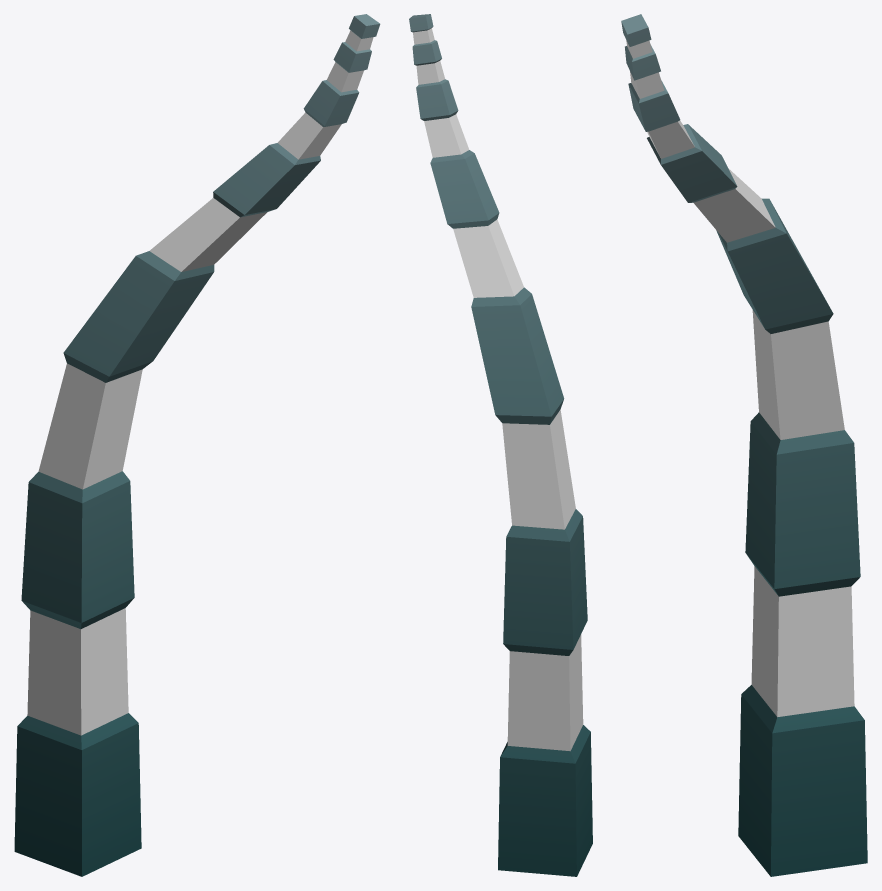
The picture shows the model from 3 angles, left to right: view 1: azimuth 30°, elevation 25°; view 2: azimuth 150°, elevation 25°; view 3: azimuth 270°, elevation 25°; orthographic projection. The views are drawn at different scales.
Parts seen in each view (by area): view 1: Cube.144; view 2: Cube.144; view 3: Cube.144.
Boxes of the visible parts, x1,y1,x2,y2 form: Cube.144: (14,14,380,876); Cube.144: (409,14,592,876); Cube.144: (621,14,867,876).
Size of the model in its own units: 10.72 by 31.2 by 7.35.
